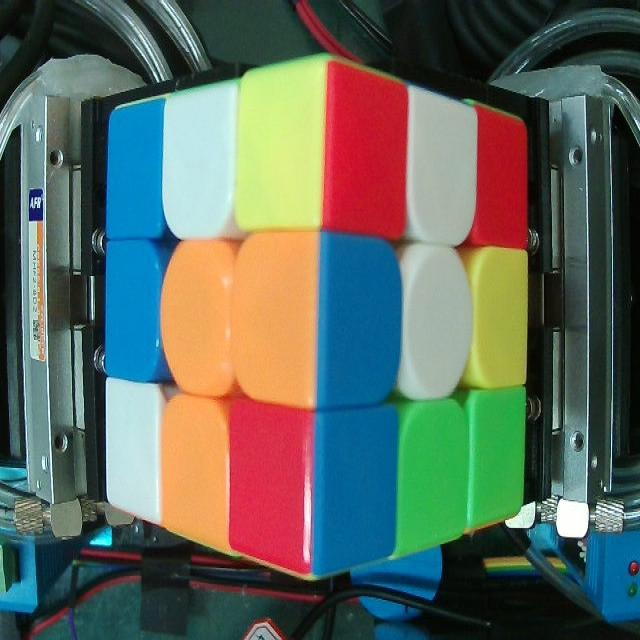b: (321, 236, 394, 403), (321, 412, 393, 558), (107, 242, 156, 380), (110, 118, 158, 236)
g: (399, 408, 466, 530), (472, 401, 520, 499)
o: (234, 235, 314, 402), (163, 241, 232, 393), (162, 393, 227, 535)
r: (230, 403, 311, 561), (332, 82, 403, 230), (478, 124, 528, 243)
w: (404, 250, 468, 395), (164, 106, 232, 239), (410, 115, 476, 244), (107, 383, 158, 518)
y: (245, 83, 318, 226), (475, 257, 529, 386)
